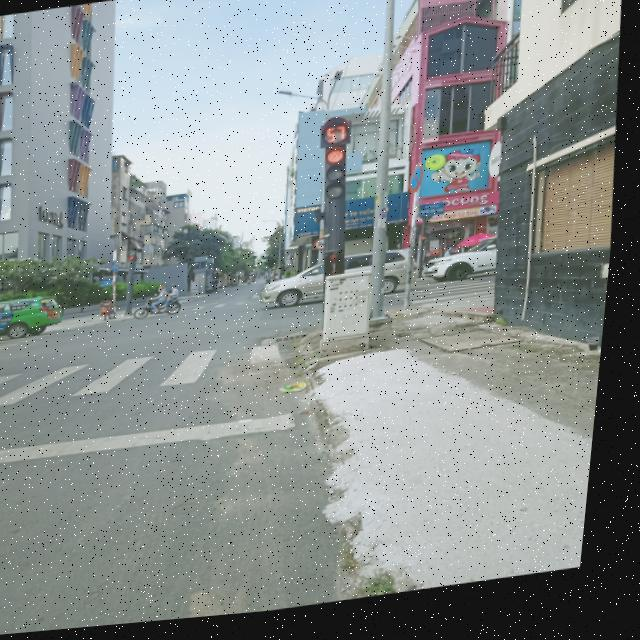Red: (322, 150, 358, 208)
